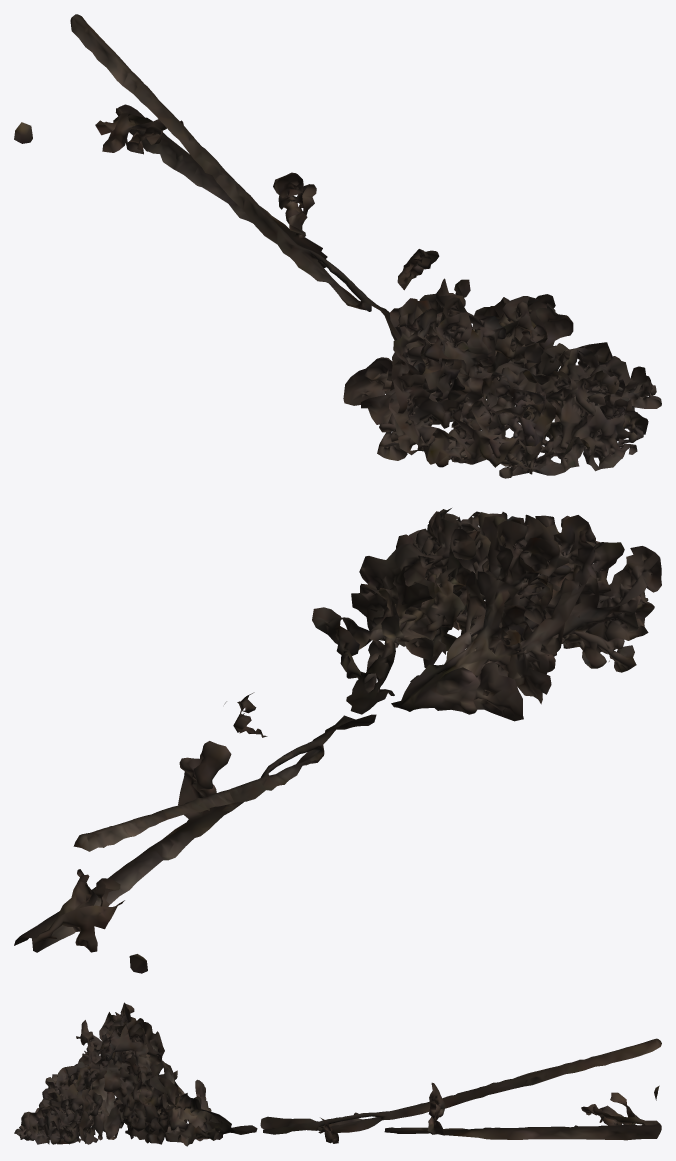
File: tree12_mesh.dae
The picture shows the model from 3 angles, top to bottom: view 1: azimuth 30°, elevation 25°; view 2: azimuth 150°, elevation 25°; view 3: azimuth 270°, elevation 25°; orthographic projection. The views are drawn at different scales.
Visible parts, largest first — view 1: node0; view 2: node0; view 3: node0.
Part boxes in pixels (x1,y1,x2,y2): node0: (14,14,661,478); node0: (14,508,661,973); node0: (14,1002,661,1146).
Size of the model in its own units: 8.57 by 5.02 by 28.65.
